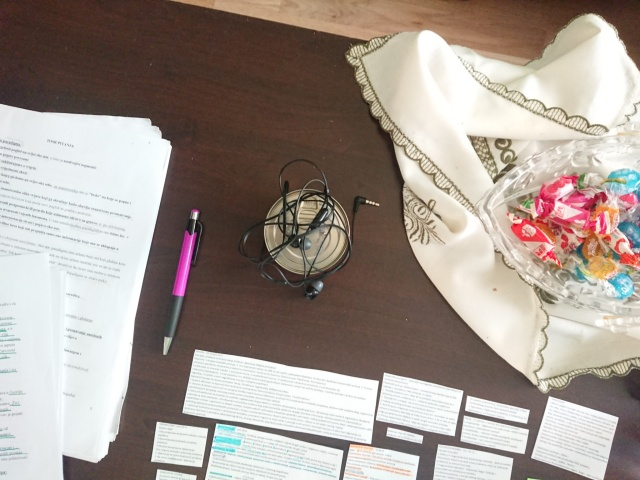Podravka Luncheon Meat 150g: (261, 187, 353, 277)
